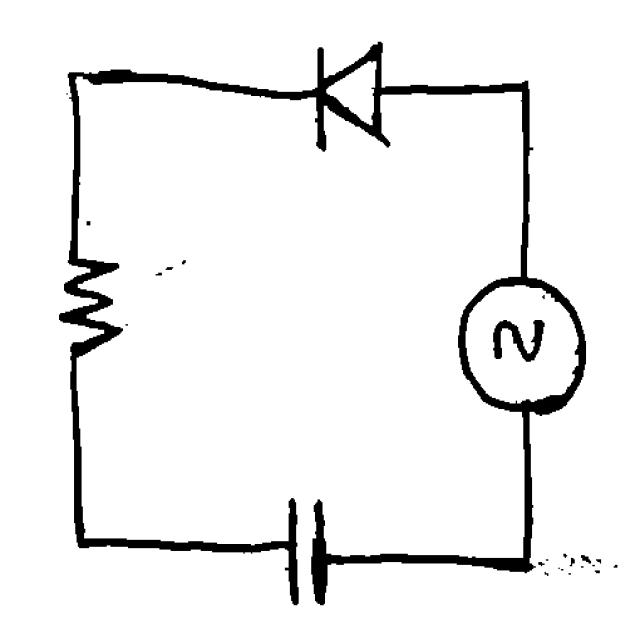ac: (450, 261, 594, 425)
capacitor: (266, 475, 344, 620)
diode: (296, 33, 401, 164)
resistor: (42, 228, 140, 368)
